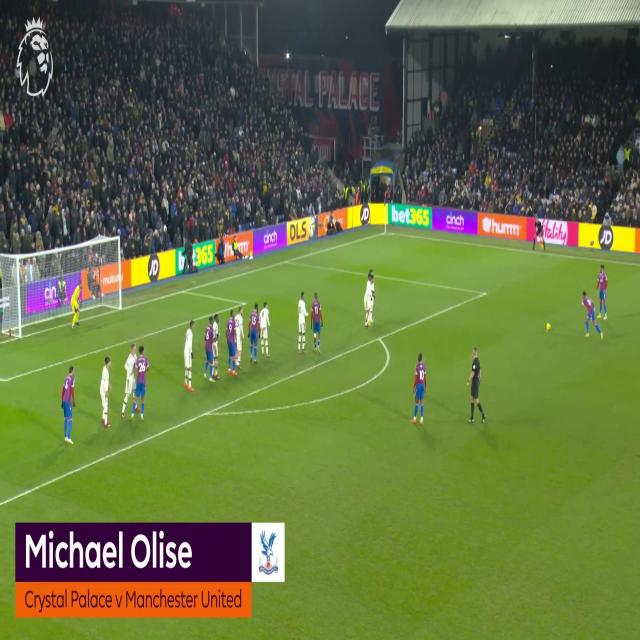right-top: (67, 239, 120, 251)
soccer-goal: (20, 240, 120, 340)
